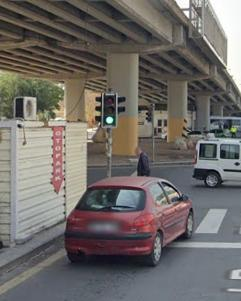greenlight: (102, 92, 117, 127)
